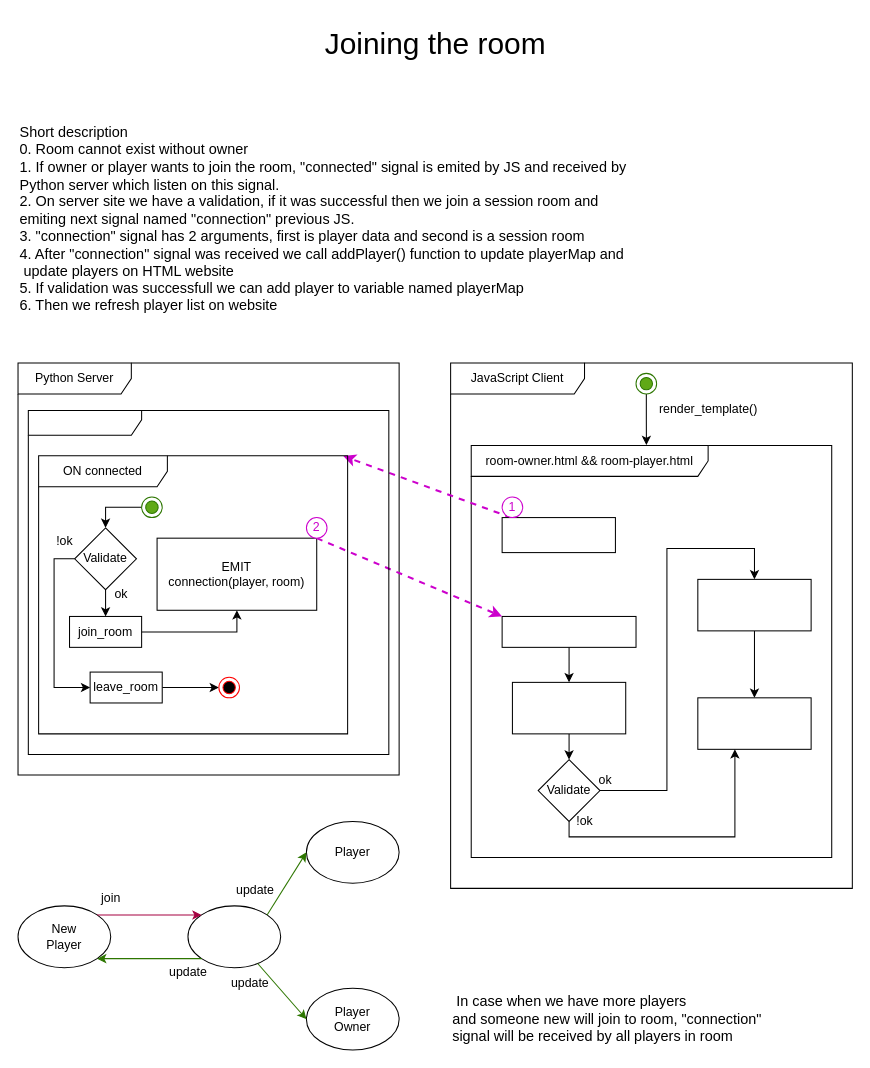
The diagram is 870 pixels wide and 1068 high, and some of its shapes have lost their labels. Here are the shapes that lost their labels. From the top down, the centre of each, then its label:
At [558,535]: "EMIT connected".
At [208,581]: "room_events.py".
At [754,604]: "playerMap (variable)".
At [568,631]: "ON connection(player)".
At [568,707]: "addPlayer(player)".
At [754,723]: "refreshPlayerList()".
At [234,936]: "Server".
